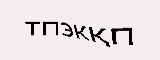К: (73, 25, 89, 41)
П: (110, 27, 136, 46), (42, 21, 59, 38)
Т: (22, 21, 39, 35)
Э: (60, 22, 75, 38)
Қ: (88, 26, 110, 48)
